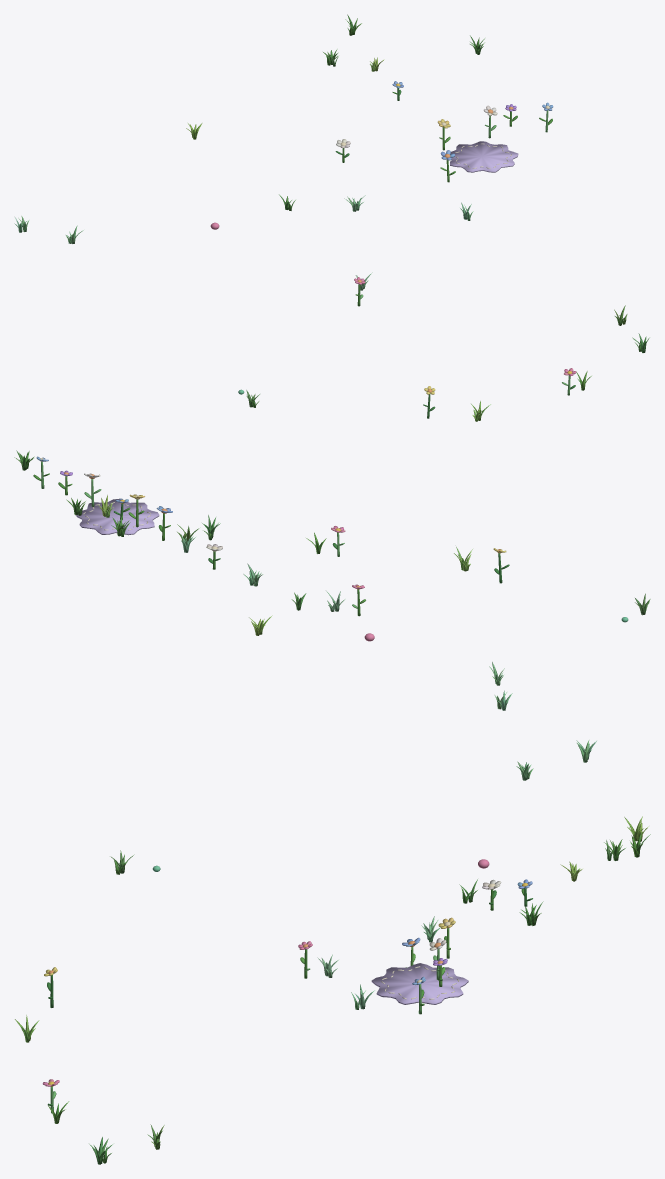
Rendered from W3_FloraRing_10_7.fbx.
The picture shows the model from 3 angles, top to bottom: view 1: azimuth 30°, elevation 25°; view 2: azimuth 150°, elevation 25°; view 3: azimuth 270°, elevation 25°; orthographic projection. The views are drawn at different scales.
Parts seen in each view (by area): view 1: W3_FloraRing_10_7; view 2: W3_FloraRing_10_7; view 3: W3_FloraRing_10_7.
Boxes of the visible parts, <box> form: W3_FloraRing_10_7: <box>14,14,649,421</box>; W3_FloraRing_10_7: <box>14,450,650,710</box>; W3_FloraRing_10_7: <box>15,740,650,1164</box>.
Size of the model in its own units: 3.75 by 1.61 by 3.3.
